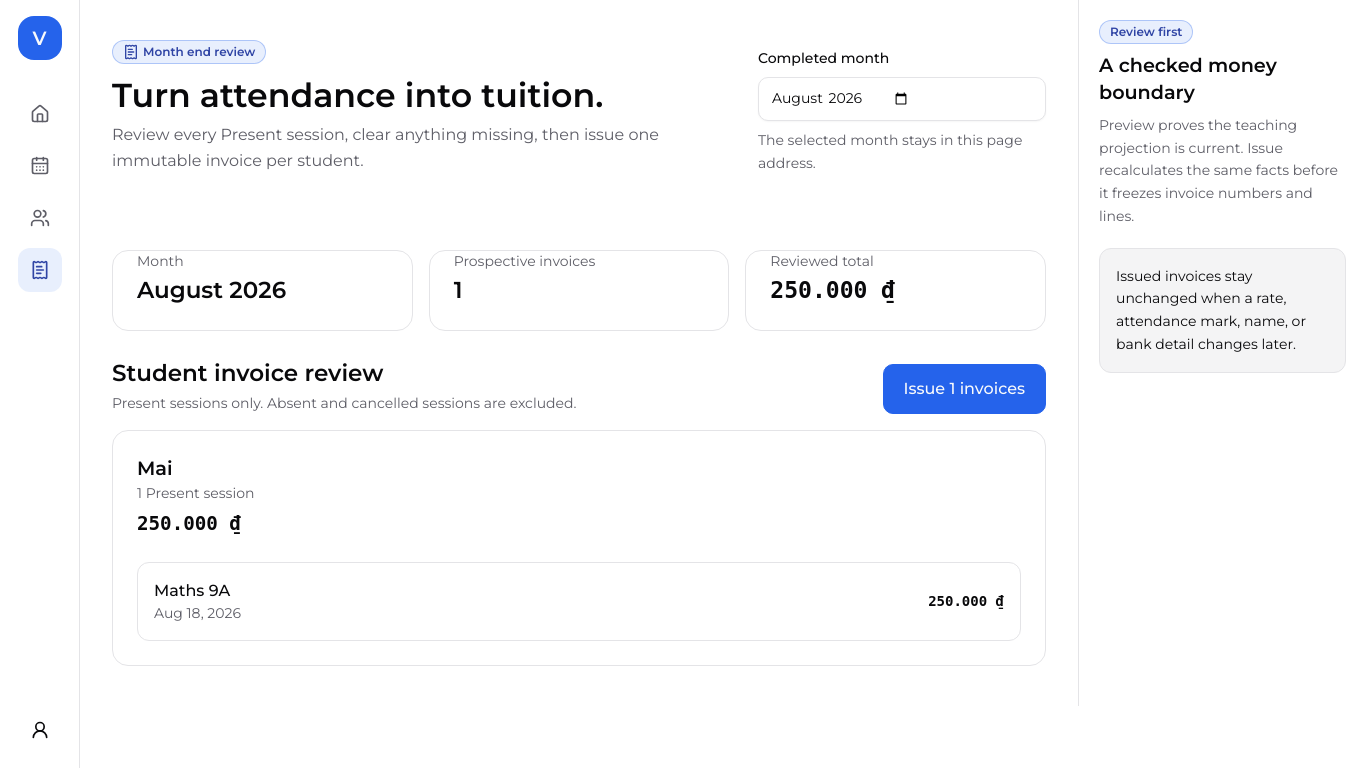
Test: BillingPage › requires a fresh review when issue reports a stale preview
Click the button "Issue 1 invoices".
click(964, 389)  # box [882,364,1046,414]
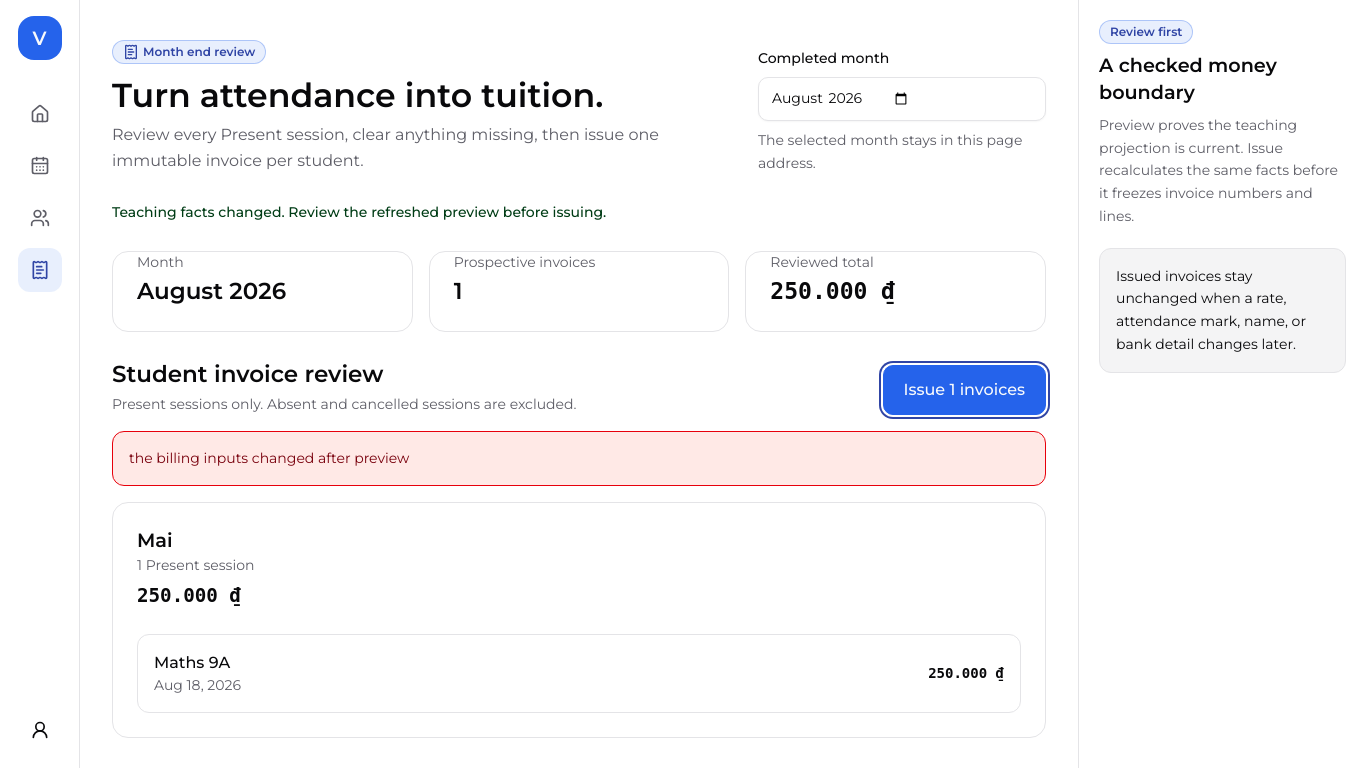
Result: the text "Teaching facts changed. Review the refreshed preview before issuing." is shown at [112,204,606,222]
